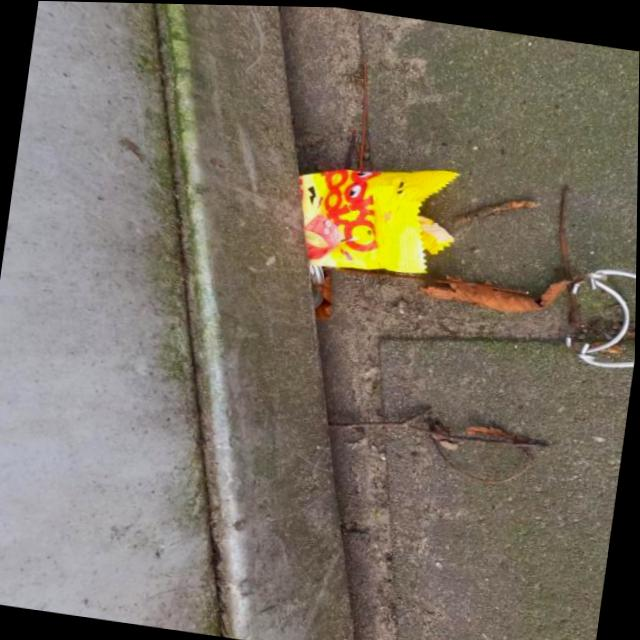Plastic: (285, 146, 467, 285)
